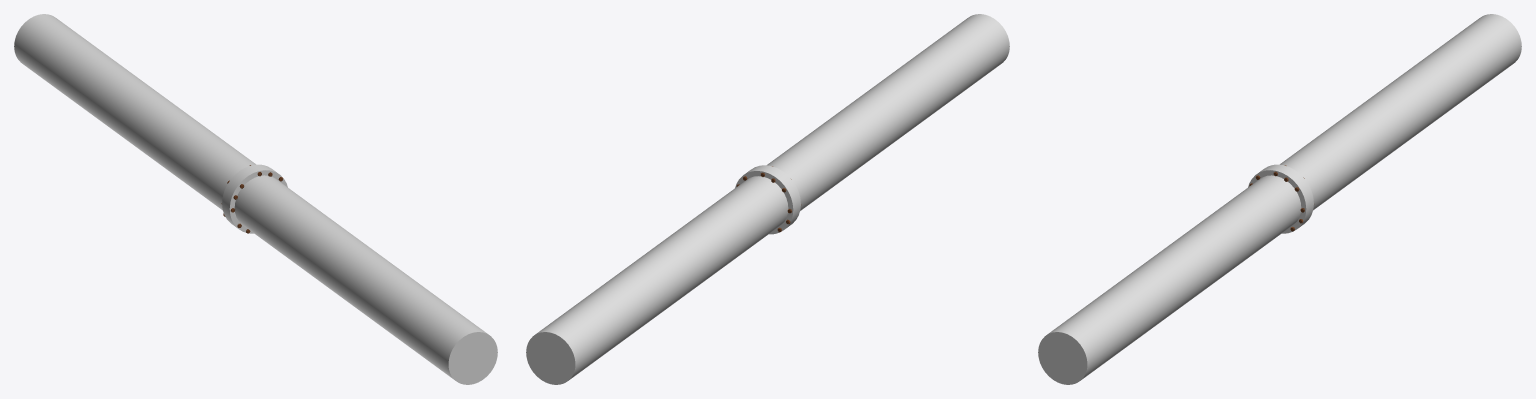
File: pipe thin.fbx
3 renders of one model, left to right at view 1: azimuth 30°, elevation 25°; view 2: azimuth 150°, elevation 25°; view 3: azimuth 330°, elevation 25°, orthographic.
Parts seen in each view (by area): view 1: Cylinder.001; view 2: Cylinder.001; view 3: Cylinder.001.
Boxes of the visible parts, bbox=[...] form: Cylinder.001: bbox=[14, 14, 497, 384]; Cylinder.001: bbox=[526, 14, 1009, 384]; Cylinder.001: bbox=[1038, 14, 1521, 384].
Size of the model in its own units: 48 by 48 by 609.
